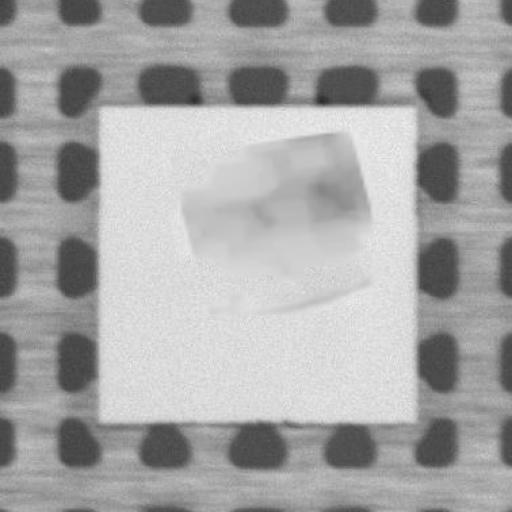DIE_INK: (162, 124, 376, 320)
